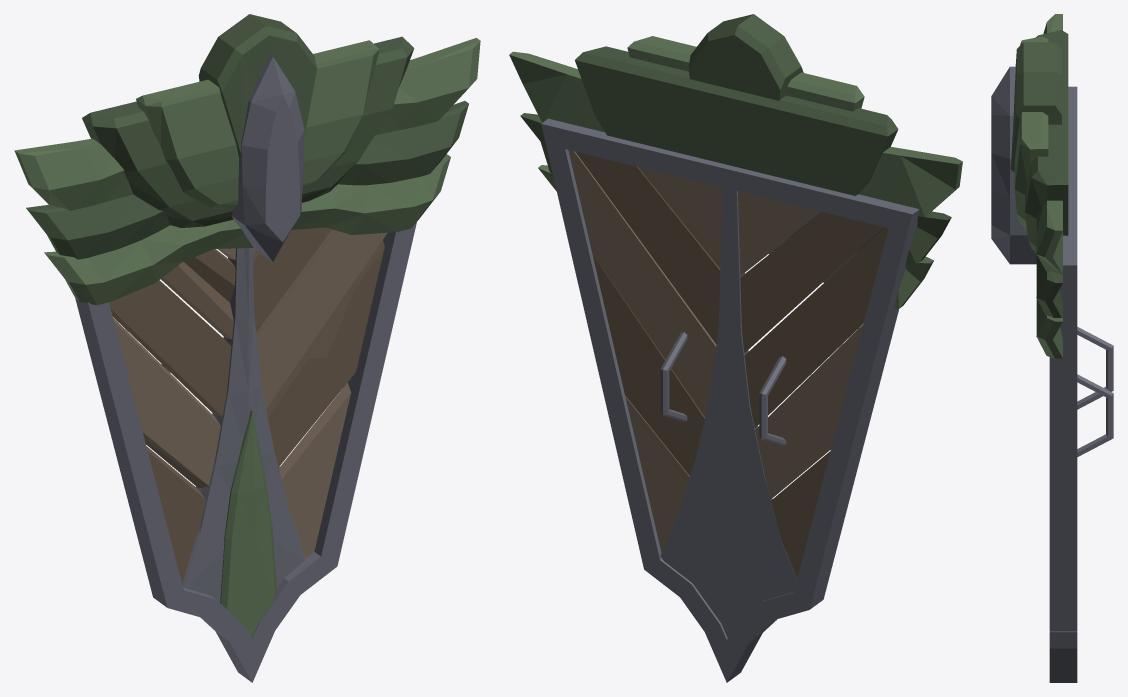
Rendered from _SHIELD_1.fbx.
The picture shows the model from 3 angles, left to right: view 1: azimuth 30°, elevation 25°; view 2: azimuth 150°, elevation 25°; view 3: azimuth 270°, elevation 25°; orthographic projection. The views are drawn at different scales.
Parts seen in each view (by area): view 1: SHIELD_1; view 2: SHIELD_1; view 3: SHIELD_1.
Boxes of the visible parts, bbox=[...] form: SHIELD_1: bbox=[14, 14, 480, 682]; SHIELD_1: bbox=[509, 14, 962, 682]; SHIELD_1: bbox=[991, 14, 1113, 682].
Size of the model in its own units: 109 by 150 by 25.99.
